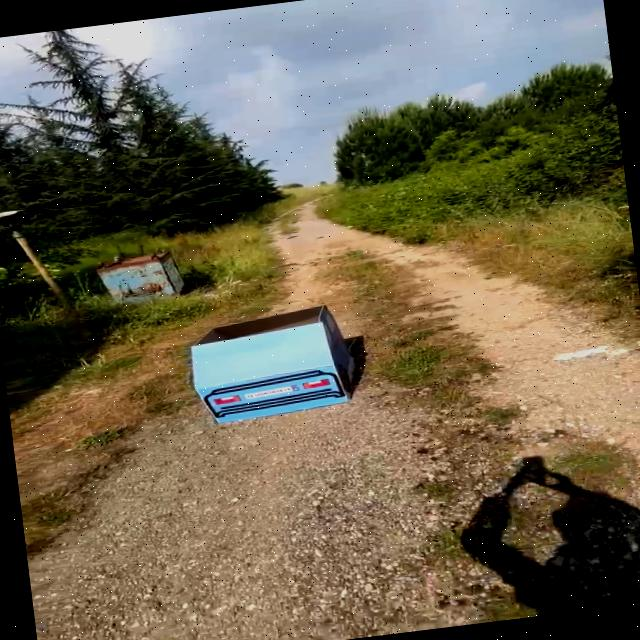blue_car: (153, 294, 390, 435)
